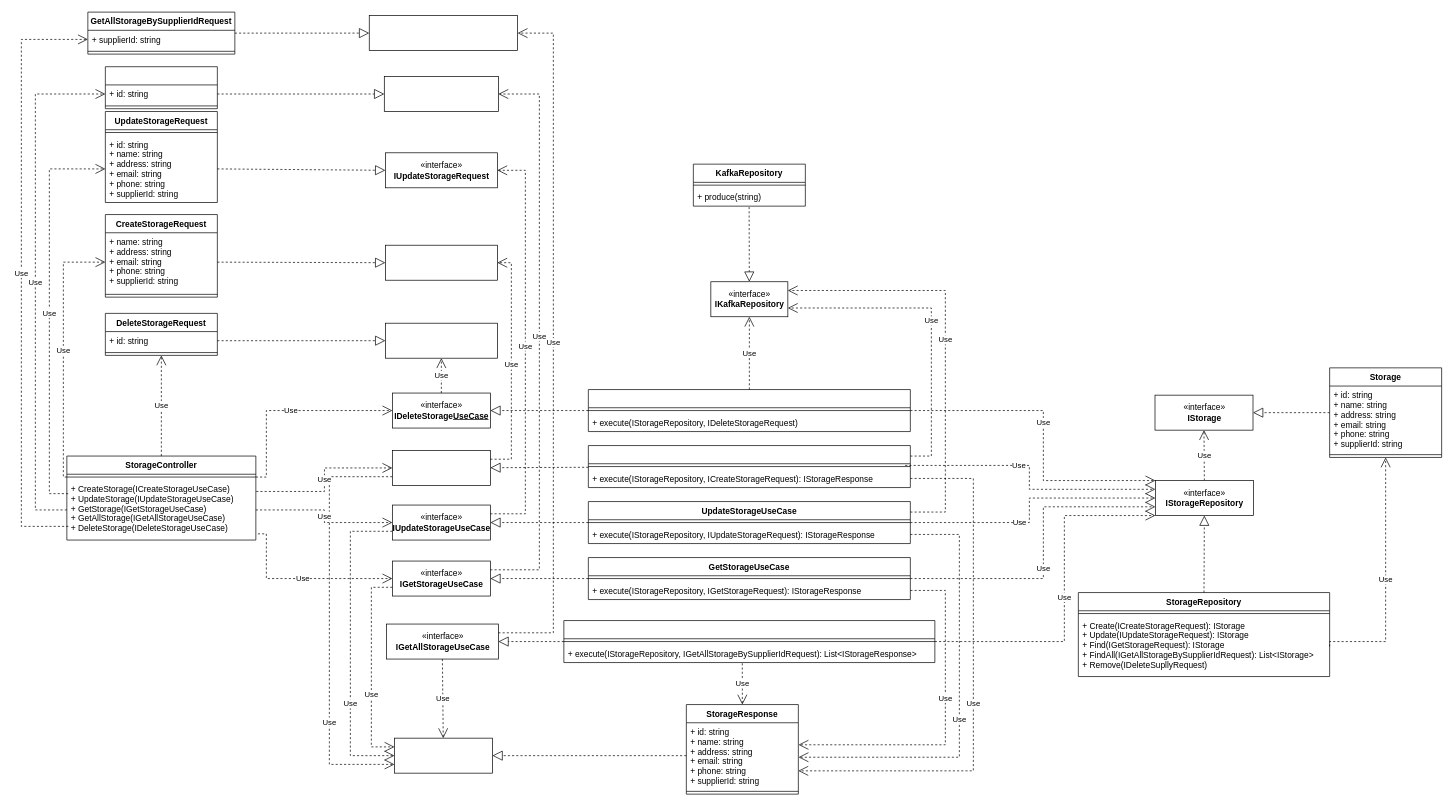
The diagram is 1454 pixels wide and 807 high, and some of its shapes have lost their labels. The shapes that lost their labels are listed below. From the top down, each one's box as (x1, y1, x2, y2) in pixels, then its label:
(369, 15, 518, 51): «interface» IGetAllStorageBySupplierIdRequest
(105, 66, 217, 109): GetStorageRequest
(384, 76, 498, 112): «interface» IGetStorageRequest
(385, 245, 497, 280): «interface» ICreateStorageRequest
(385, 322, 497, 358): «interface» IDeleteStorageRequest
(588, 389, 910, 432): DeleteStorageUseCase
(392, 450, 490, 485): «interface» ICreateStorageUseCase
(588, 445, 910, 488): CreateStorageUseCase
(563, 620, 935, 663): GetAllStorageUseCase
(394, 737, 492, 773): «interface» IStorageResponse
